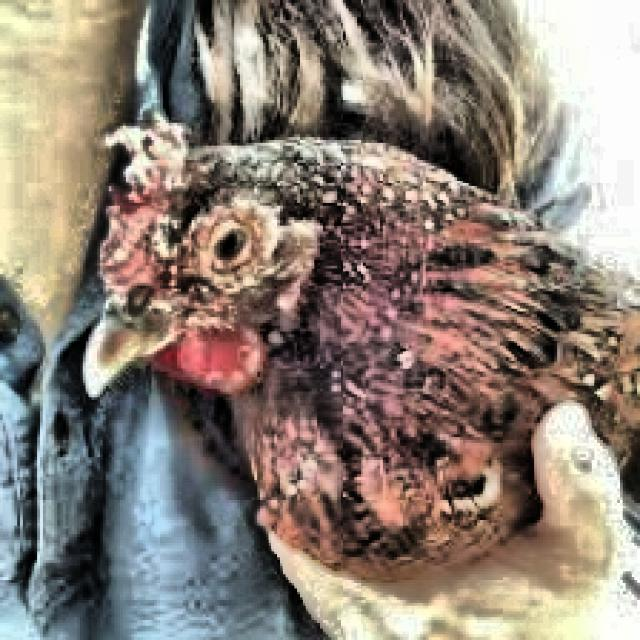Fowlpox: (90, 113, 327, 385)
